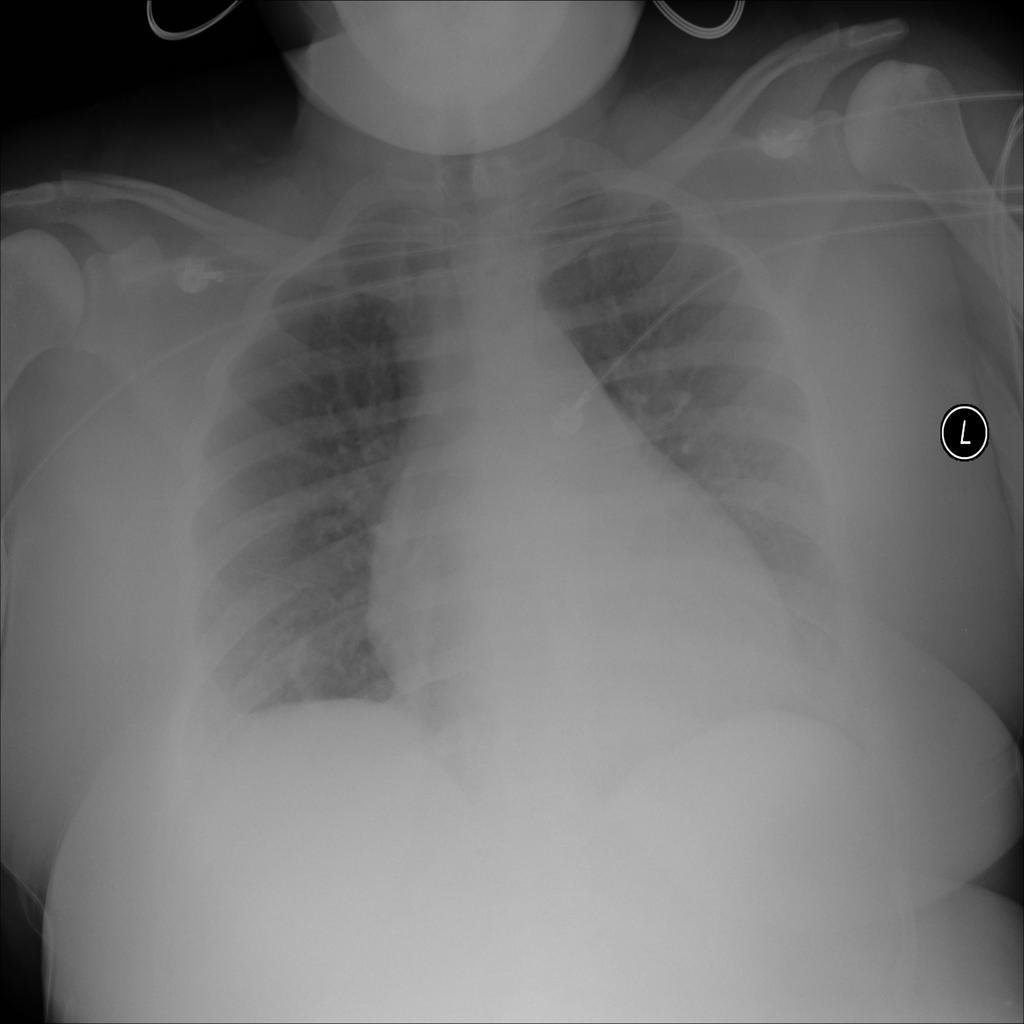Cardiomegaly: (370, 447, 795, 738)
